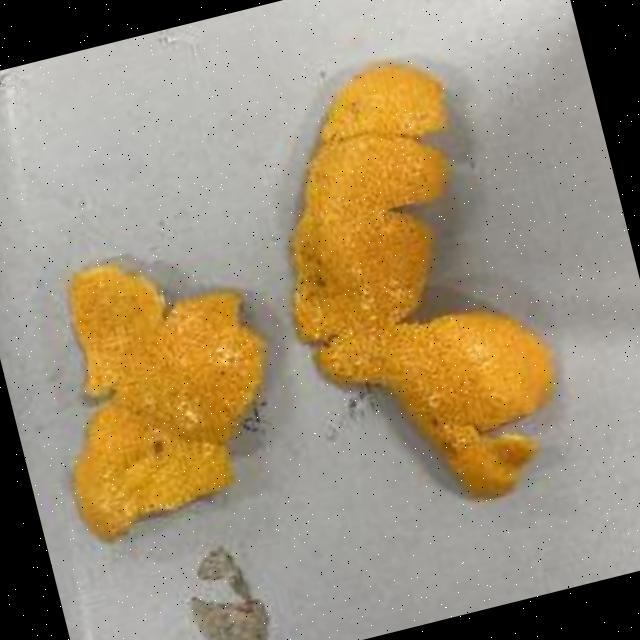orange-peel: (236, 36, 584, 536)
